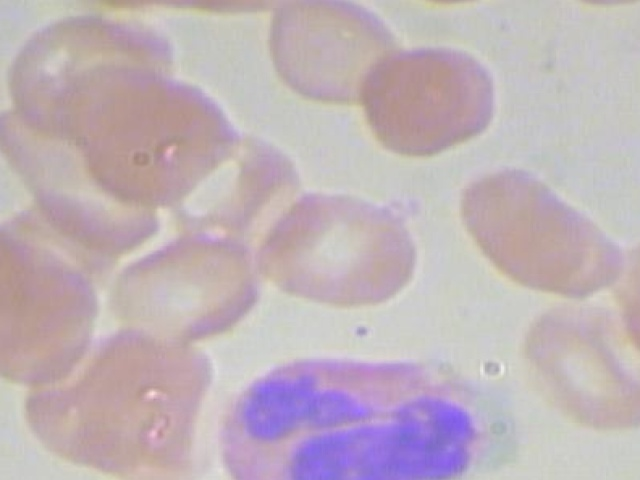RBC: (62, 64, 245, 215), (451, 158, 632, 305), (264, 173, 424, 316), (105, 221, 266, 346), (511, 279, 640, 433), (351, 42, 498, 155), (260, 0, 409, 106), (0, 221, 70, 374), (605, 223, 640, 381), (359, 0, 531, 11), (533, 0, 640, 11)
WBC: (202, 324, 510, 480)
